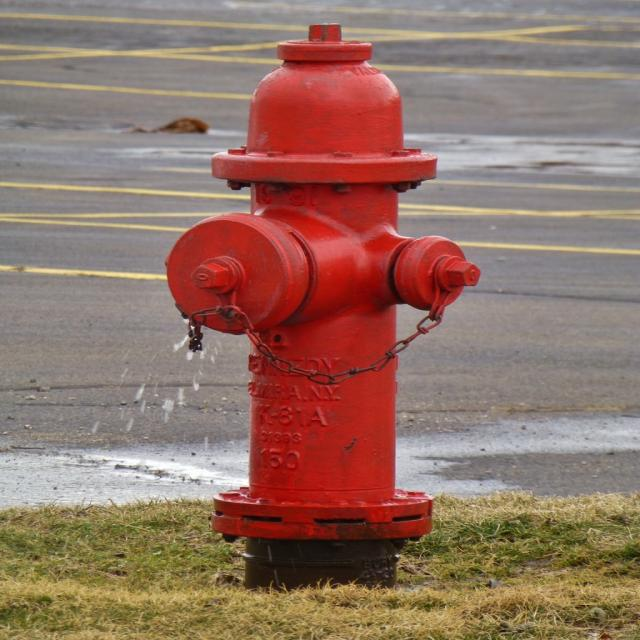fire_hydrant: (163, 22, 481, 596)
